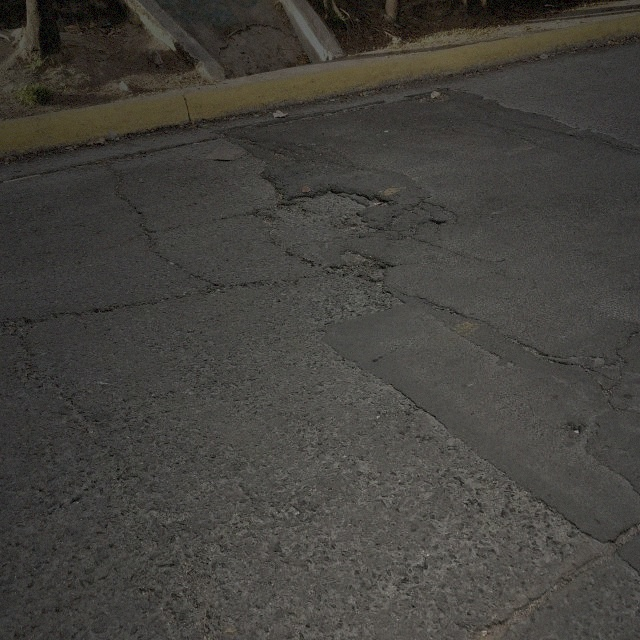pothole: (295, 182, 386, 231), (3, 315, 37, 345), (411, 88, 450, 105), (258, 210, 274, 233)
